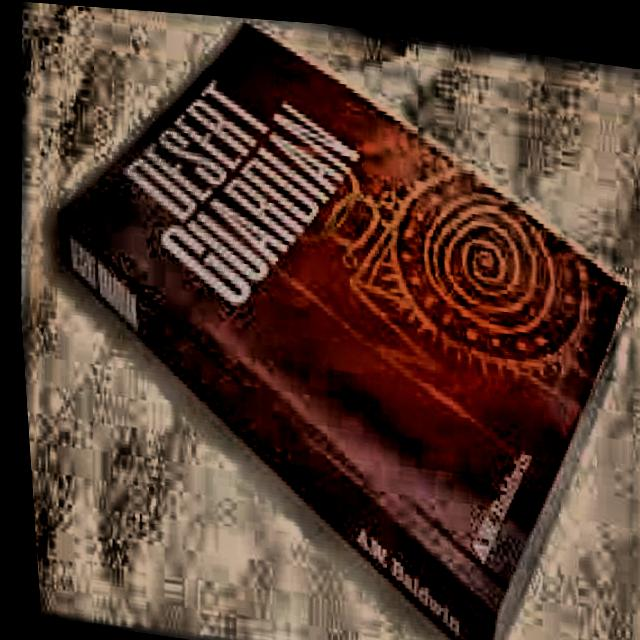Paper: (13, 1, 640, 640)
